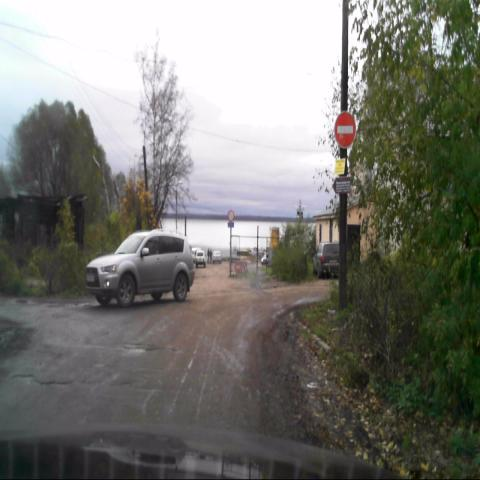3_1: (334, 111, 356, 150)
